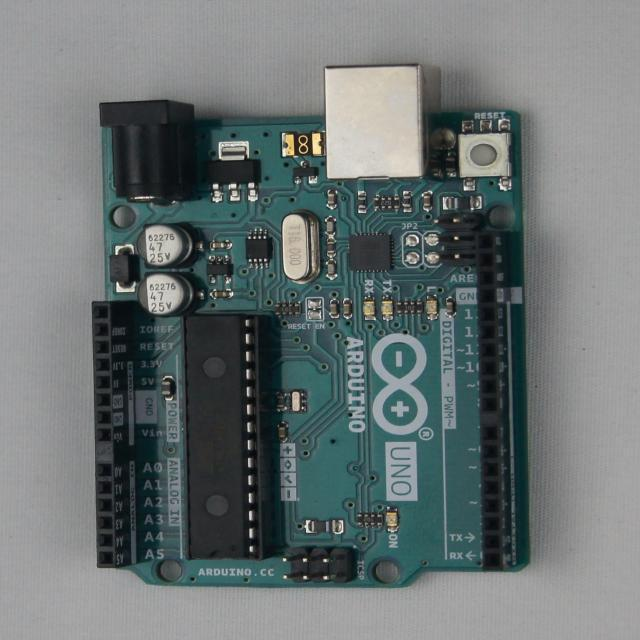Arduino Uno -Green-: (93, 67, 529, 587)
